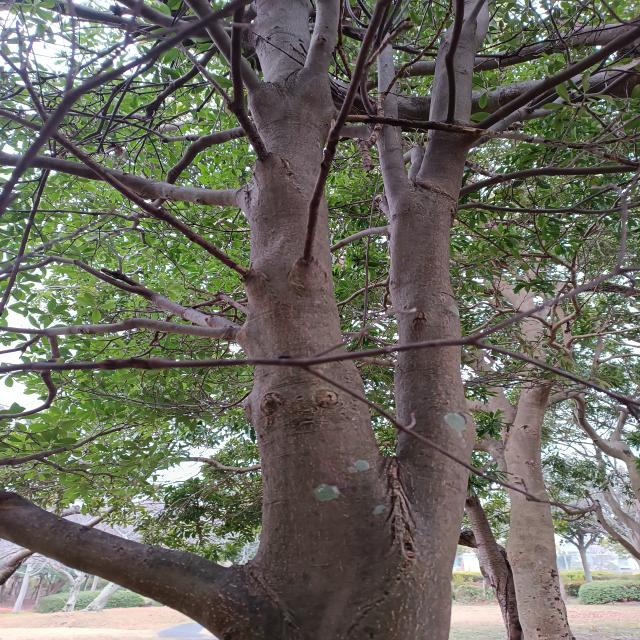Branch: (247, 0, 403, 572), (385, 123, 478, 524), (1, 491, 229, 640)
Twig: (480, 24, 640, 132), (0, 154, 247, 207), (226, 0, 269, 159), (375, 28, 408, 205), (462, 165, 639, 197), (166, 125, 247, 185), (577, 179, 638, 205), (459, 203, 581, 213), (581, 202, 640, 214)
